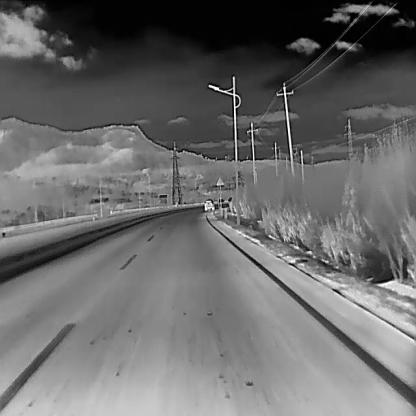car: (203, 198, 216, 210)
